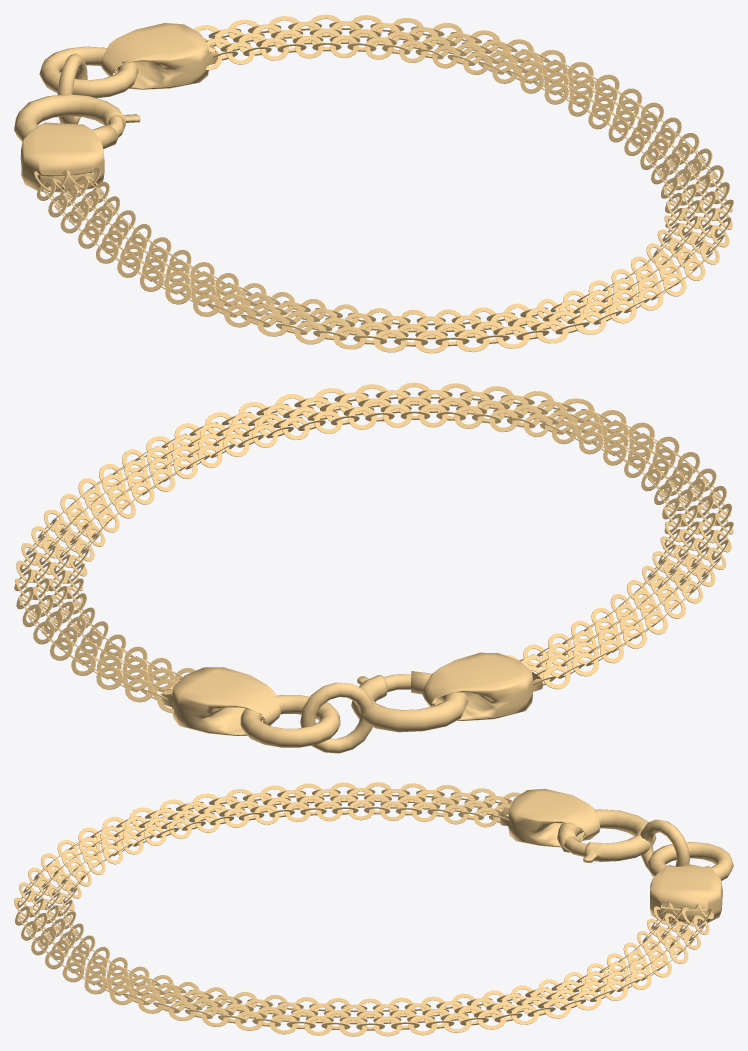
File: FlatBracelet.glb
The picture shows the model from 3 angles, top to bottom: view 1: azimuth 30°, elevation 25°; view 2: azimuth 150°, elevation 25°; view 3: azimuth 270°, elevation 25°; orthographic projection. The views are drawn at different scales.
Parts seen in each view (by area): view 1: FlatBracelet-HighPoly; view 2: FlatBracelet-HighPoly; view 3: FlatBracelet-HighPoly.
Part boxes in pixels (left/top/right/bottom): FlatBracelet-HighPoly: left=14, top=14, right=733, bottom=353; FlatBracelet-HighPoly: left=14, top=382, right=733, bottom=753; FlatBracelet-HighPoly: left=14, top=782, right=733, bottom=1036.
Size of the model in its own units: 42.77 by 5 by 53.89.
